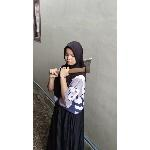Kapak: (48, 56, 94, 80)
